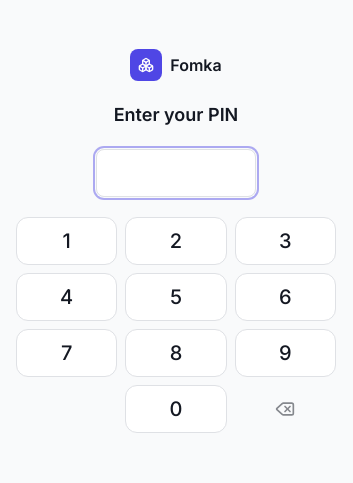
Test: Login › shows an error and clears the PIN when it is wrong; typing also works
Type "9999" into the password field named "PIN" at (176, 173), box [96,149,256,197]
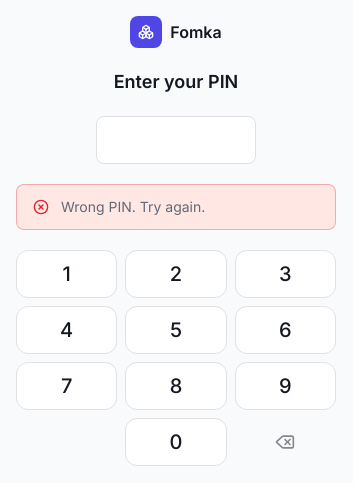
expect the password field named "PIN" is empty: met, box [96,116,256,164]
expect the message shows "Wrong PIN": met, box [61,198,205,215]
